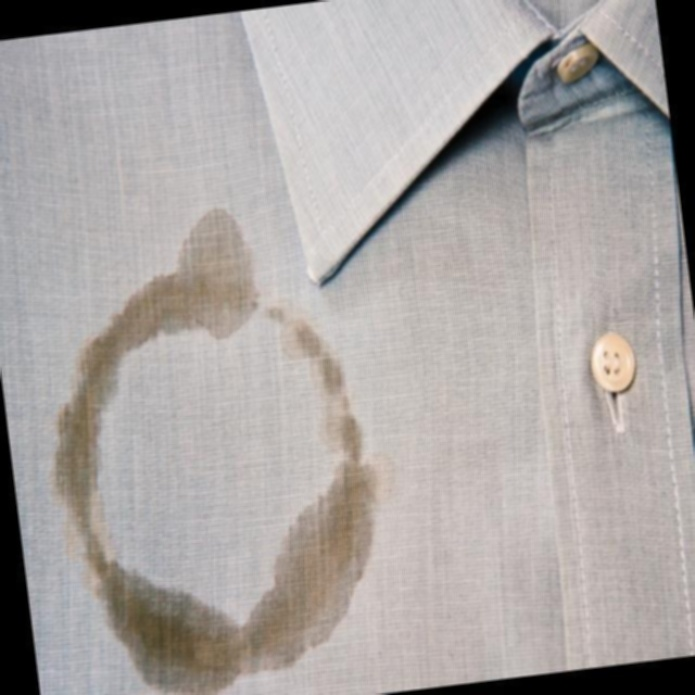coffee: (242, 470, 392, 681), (125, 225, 263, 346), (118, 582, 236, 694), (51, 328, 122, 514)
